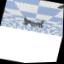drone: (20, 15, 46, 30)
